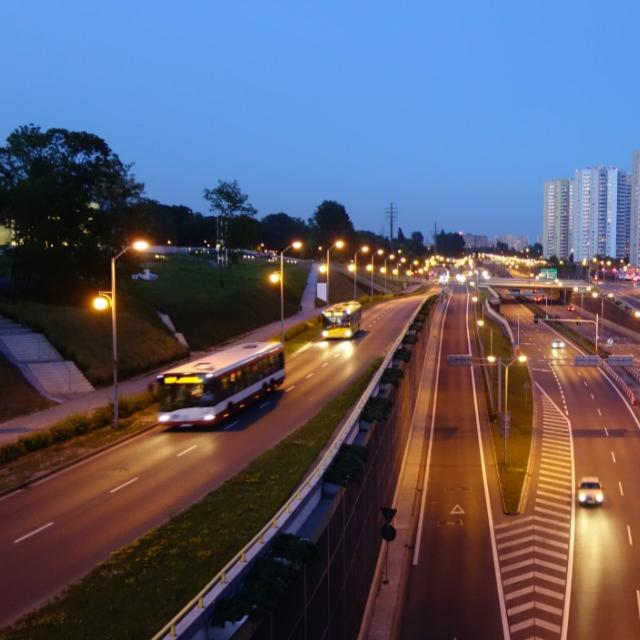bus: (152, 341, 287, 428), (320, 302, 362, 340)
car: (577, 475, 604, 507), (550, 338, 565, 348)
